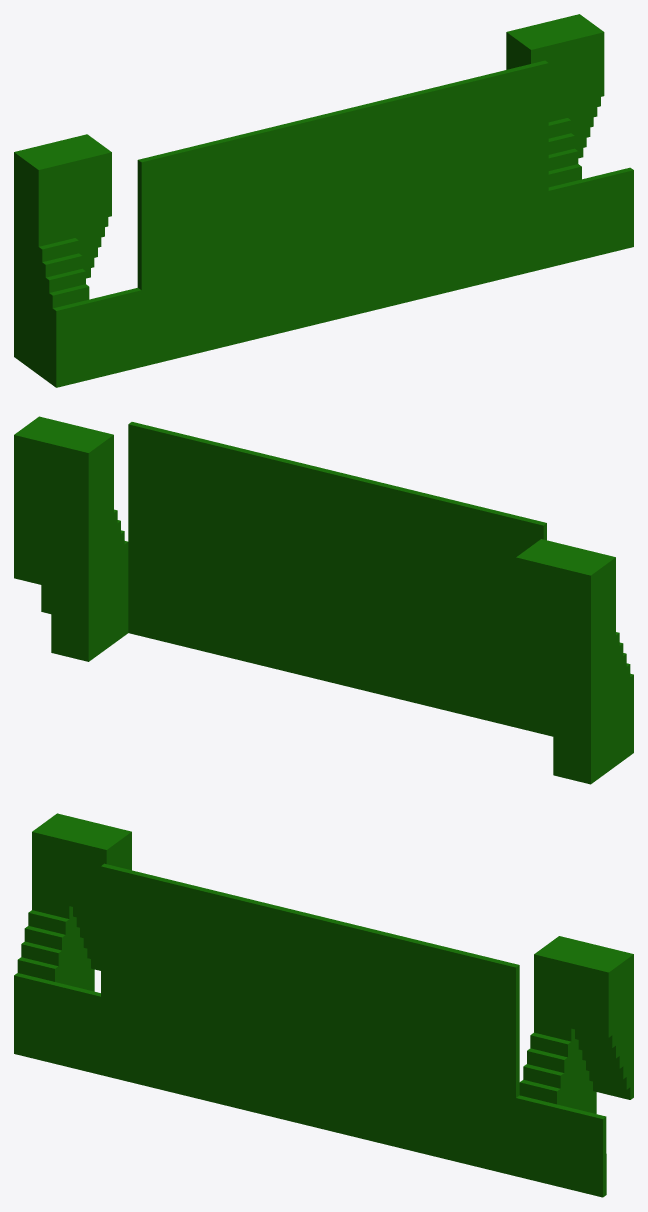
Rendered from Plataforma.fbx.
The picture shows the model from 3 angles, top to bottom: view 1: azimuth 30°, elevation 25°; view 2: azimuth 150°, elevation 25°; view 3: azimuth 330°, elevation 25°; orthographic projection.
Parts seen in each view (by area): view 1: Cube; view 2: Cube; view 3: Cube.
Boxes of the visible parts, x1=… form: Cube: x1=14, y1=14, x2=633, y2=387; Cube: x1=14, y1=416, x2=633, y2=784; Cube: x1=14, y1=813, x2=633, y2=1197.
Bounding box in the file's own units: 18913 × 6409 × 2400.
